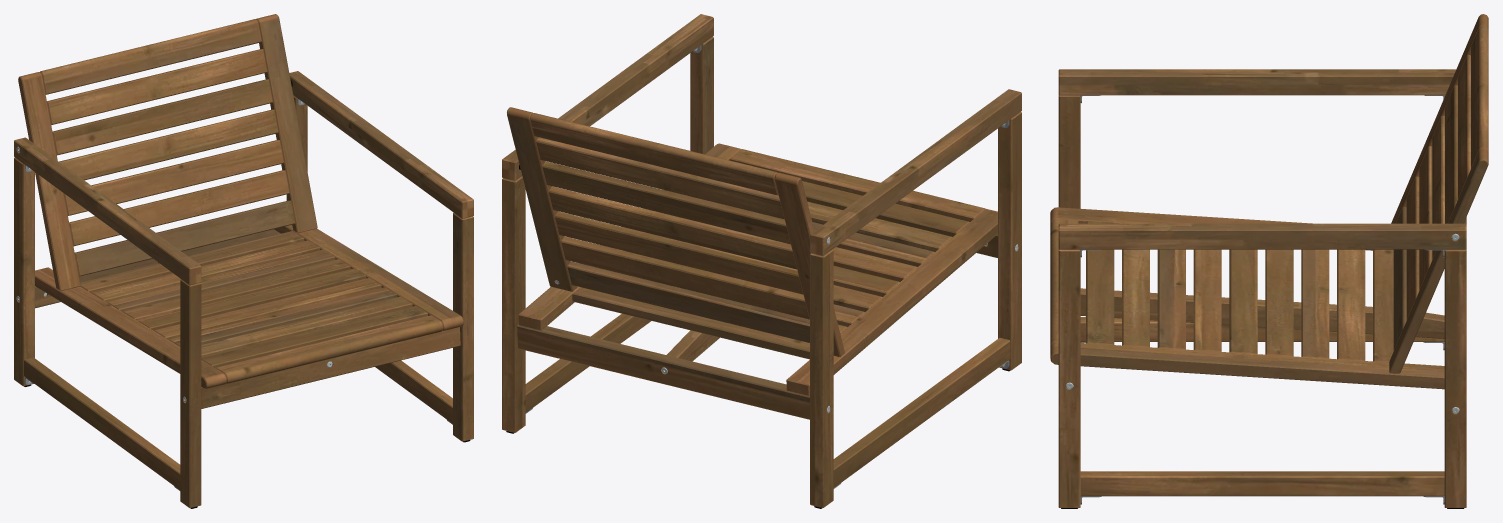
File: 06 - NÄMMARÖ - 戶外躺椅，淺棕色 IKEA 線上購物.glb
3 views of the same model, side by side, from view 1: azimuth 30°, elevation 25°; view 2: azimuth 150°, elevation 25°; view 3: azimuth 270°, elevation 25° (orthographic). The views are drawn at different scales.
Visible parts, largest first — view 1: model; view 2: model; view 3: model.
Boxes of the visible parts, left/top/right/bottom form: model: left=14, top=14, right=473, bottom=508; model: left=502, top=14, right=1021, bottom=508; model: left=1050, top=14, right=1488, bottom=508.
Size of the model in its own units: 0.69 by 0.686 by 0.7931.
Materials: 1 (1 with a texture image).
